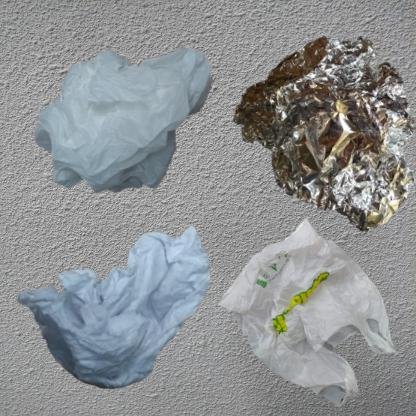aluminio: (213, 10, 416, 248)
bolsa: (10, 10, 287, 260), (213, 213, 400, 412)
papel: (10, 213, 216, 398)
